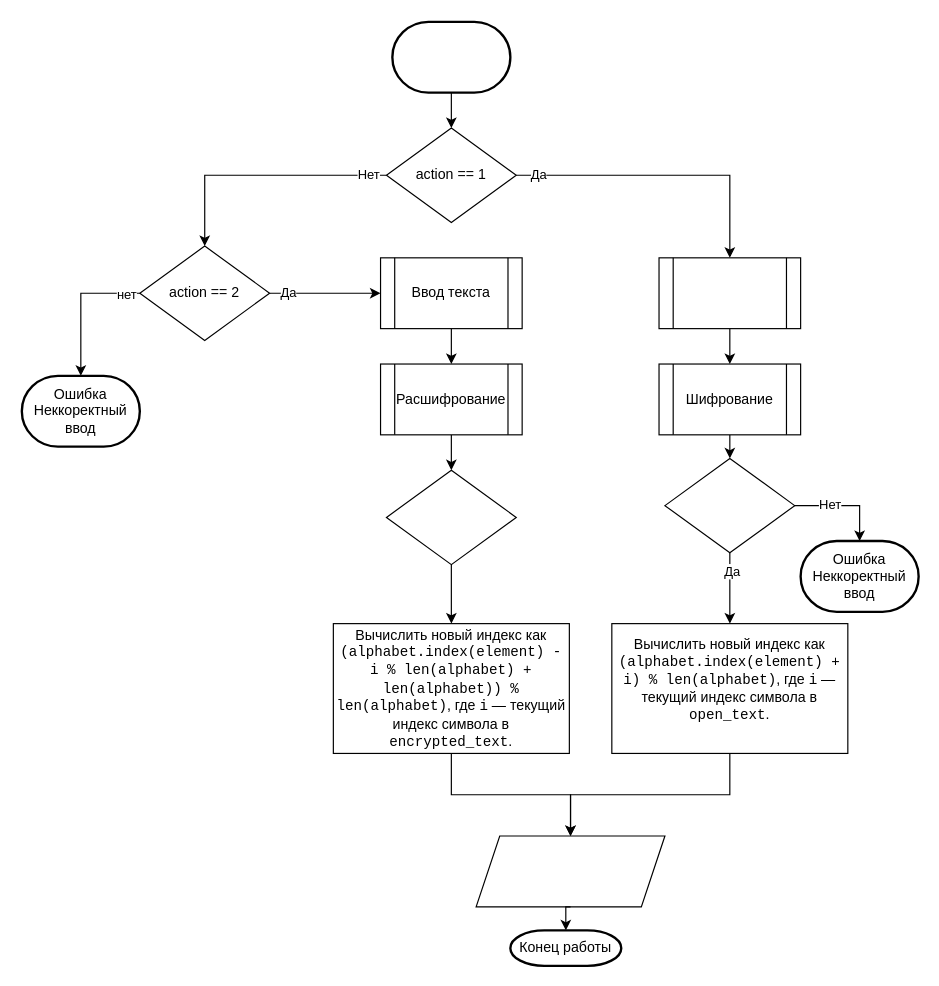
This 939x986 diagram has some shape labels left out. Here are the shapes that lost their labels. From the top down, the centre of each, then its label:
At (x=451, y=56): "Начало работы".
At (x=729, y=293): "Ввод и обработка".
At (x=450, y=517): "Цикл по символам зашифрованного текста".
At (x=729, y=505): "Цикл по символам открытого текста".
At (x=570, y=871): "Вывод результата".
